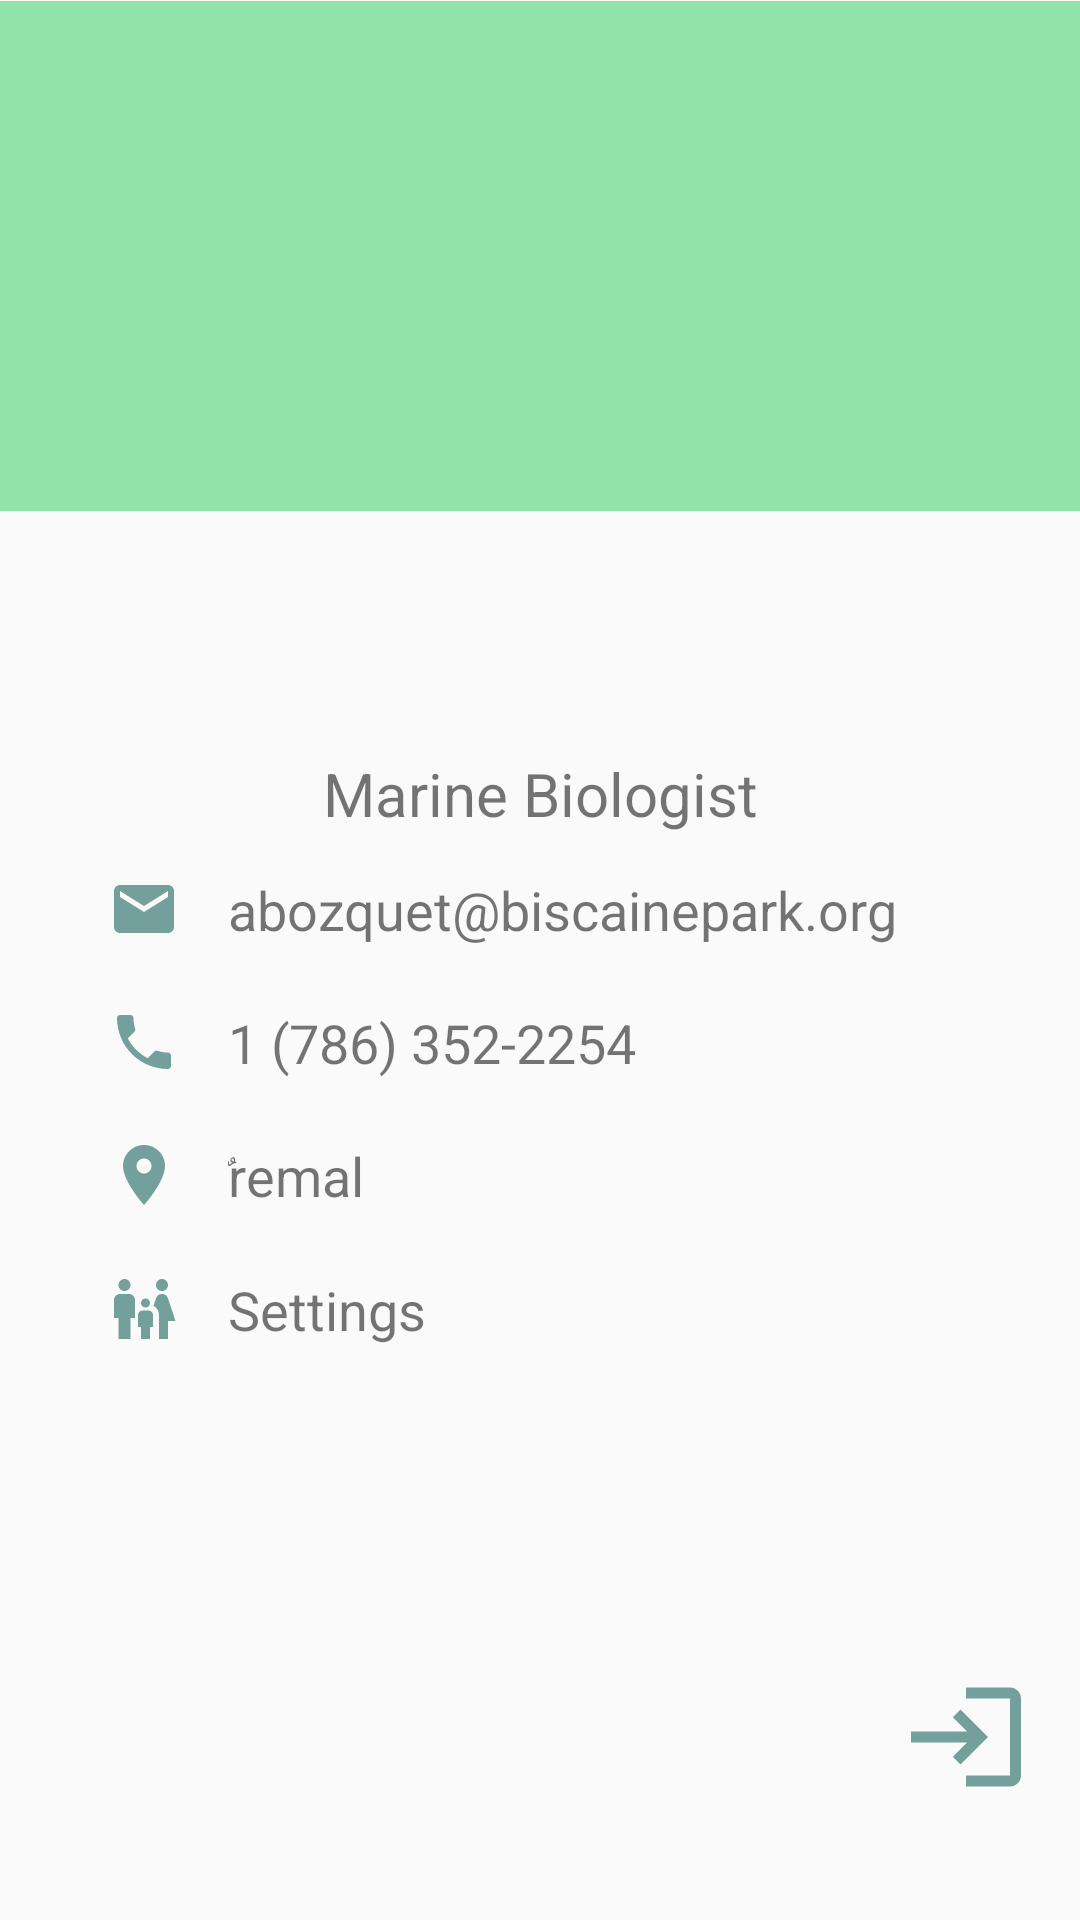

Icon bounding boxes for this 1080x1920 phone screenshot, format bbox(x1, y1, x2, y2):
email: bbox(114, 885, 174, 933)
family restroom: bbox(114, 1279, 176, 1339)
location on: bbox(123, 1145, 165, 1205)
login: bbox(911, 1687, 1021, 1787)
phone: bbox(117, 1015, 171, 1069)
